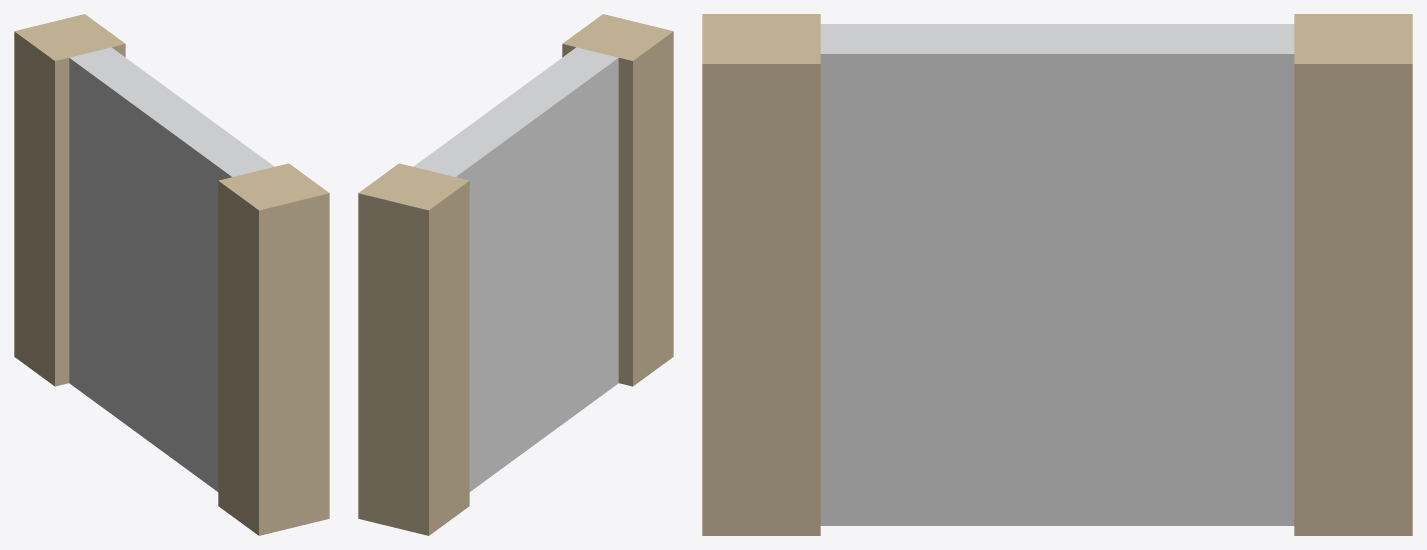
The model's file is Wood_Wall_01.glb.
The picture shows the model from 3 angles, left to right: view 1: azimuth 30°, elevation 25°; view 2: azimuth 150°, elevation 25°; view 3: azimuth 270°, elevation 25°; orthographic projection. The views are drawn at different scales.
Visible parts, largest first — view 1: Mesh1 Wood_Wall Model; view 2: Mesh1 Wood_Wall Model; view 3: Mesh1 Wood_Wall Model.
Part boxes in pixels (x1,y1,x2,y2): Mesh1 Wood_Wall Model: (14,14,329,535); Mesh1 Wood_Wall Model: (358,14,673,535); Mesh1 Wood_Wall Model: (702,14,1412,535).
Size of the model in its own units: 0.5 by 2.2 by 3.
